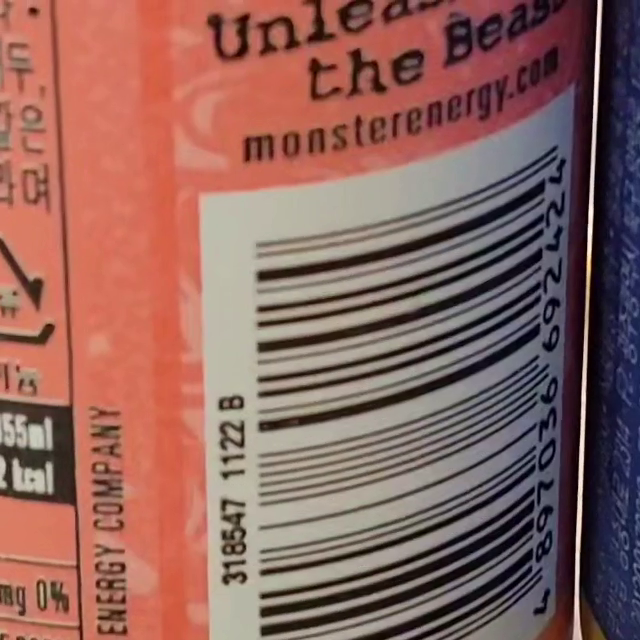Can: (0, 240, 55, 344)
